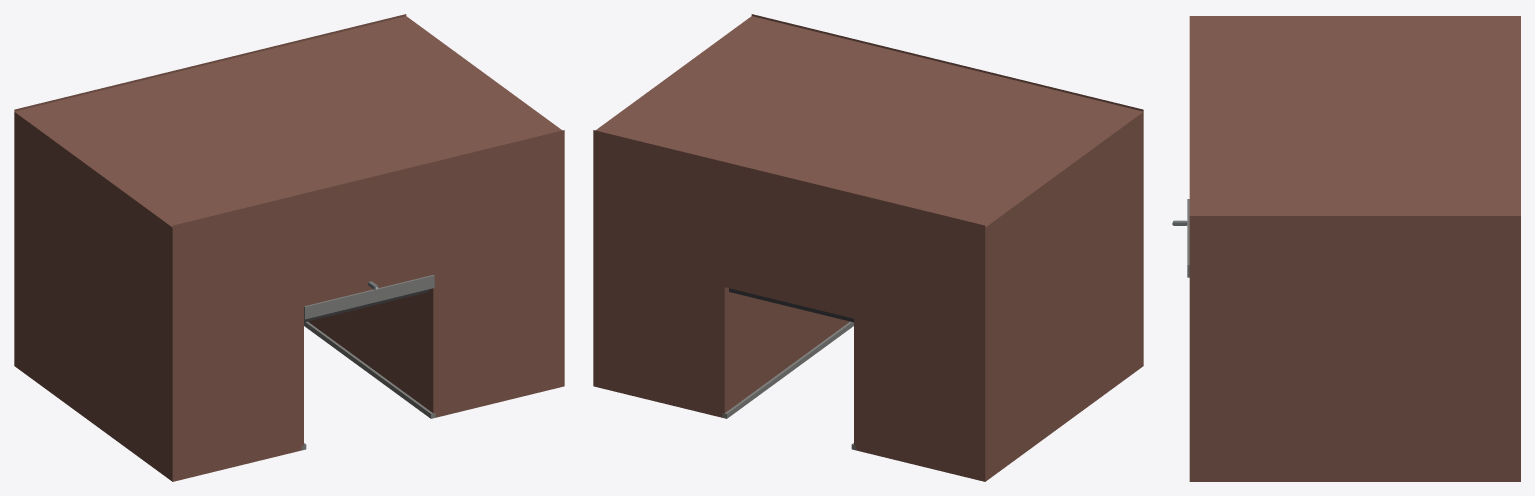
Rendered from arch_passage_brick.glb.
The picture shows the model from 3 angles, left to right: view 1: azimuth 30°, elevation 25°; view 2: azimuth 150°, elevation 25°; view 3: azimuth 270°, elevation 25°; orthographic projection. The views are drawn at different scales.
Visible parts, largest first — view 1: pier, pier.001, facade_front, over_arch, arch_beam_f, facade_back, kerb.001; view 2: pier, pier.001, over_arch, facade_back, facade_front, kerb.001; view 3: pier.001, pier, over_arch.
Part boxes in pixels (x1,y1,x2,y2): pier: (14, 79, 303, 481); pier.001: (275, 16, 564, 417); facade_front: (172, 130, 564, 348); over_arch: (146, 48, 433, 279); arch_beam_f: (304, 275, 434, 319); facade_back: (14, 14, 406, 111); kerb.001: (304, 321, 435, 418); pier: (854, 79, 1143, 481); pier.001: (593, 16, 882, 417); over_arch: (724, 48, 1011, 318); facade_back: (593, 130, 985, 310); facade_front: (751, 14, 1143, 111); kerb.001: (722, 321, 853, 418); pier.001: (1189, 149, 1520, 481); pier: (1189, 16, 1520, 82); over_arch: (1189, 83, 1520, 148).
Size of the model in its own units: 10 by 6.25 by 7.37.
